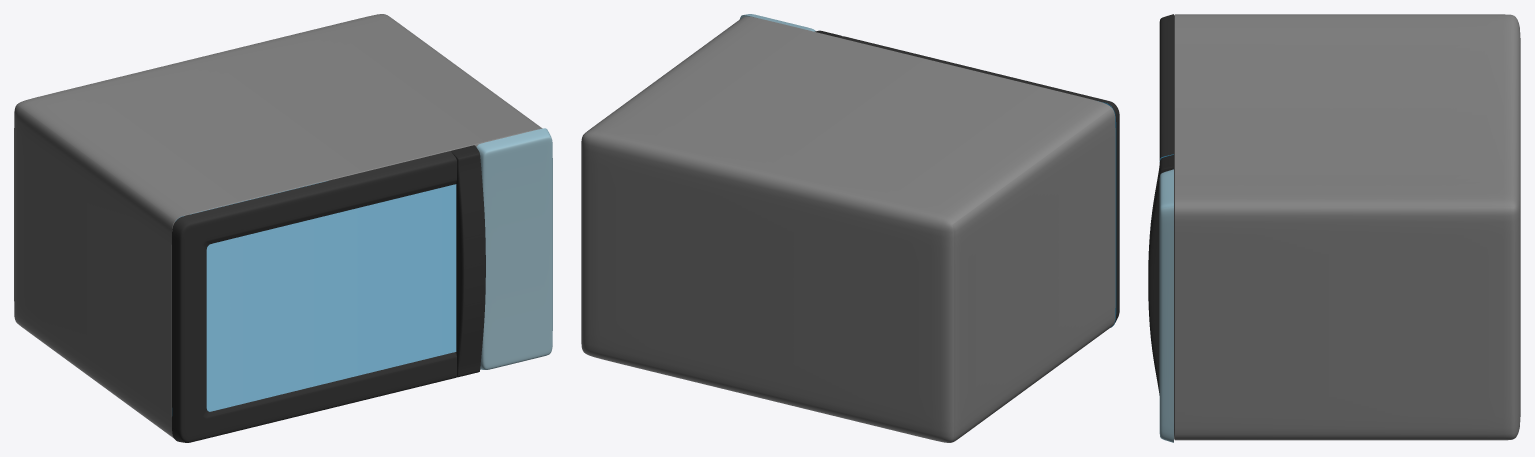
Rendered from Microwaveoven.fbx.
The picture shows the model from 3 angles, left to right: view 1: azimuth 30°, elevation 25°; view 2: azimuth 150°, elevation 25°; view 3: azimuth 270°, elevation 25°; orthographic projection. The views are drawn at different scales.
Visible parts, largest first — view 1: microwaveoven; view 2: microwaveoven; view 3: microwaveoven.
Boxes of the visible parts, x1=… form: microwaveoven: x1=14, y1=14, x2=552, y2=442; microwaveoven: x1=581, y1=14, x2=1119, y2=442; microwaveoven: x1=1148, y1=14, x2=1520, y2=442.
Bounding box in the file's own units: 53.93 × 30.86 × 43.31.
Materials: 1 (1 with a texture image).
